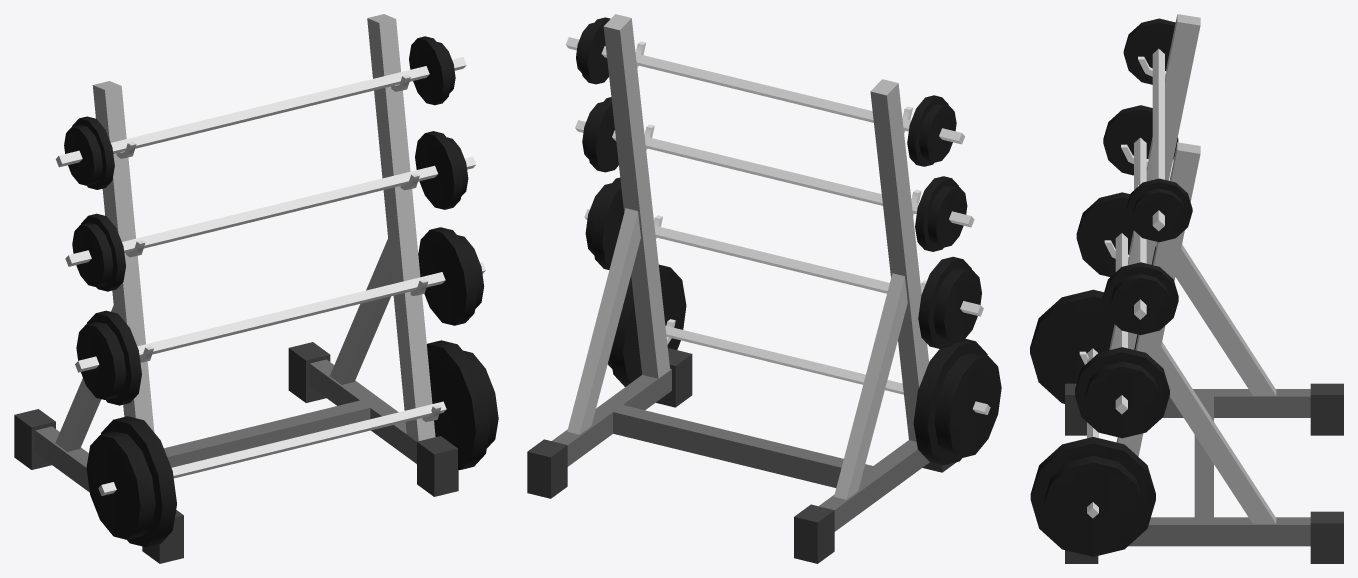
Rendered from training_item_008.glb.
The picture shows the model from 3 angles, left to right: view 1: azimuth 30°, elevation 25°; view 2: azimuth 150°, elevation 25°; view 3: azimuth 270°, elevation 25°; orthographic projection. The views are drawn at different scales.
Visible parts, largest first — view 1: training_item_008; view 2: training_item_008; view 3: training_item_008.
Part boxes in pixels (<box>): training_item_008: <box>14,14,498,563</box>; training_item_008: <box>527,14,1001,563</box>; training_item_008: <box>1030,14,1343,563</box>.
Bounding box in the file's own units: 1.25 × 1.27 × 0.8761.
Materials: 1 (1 with a texture image).
